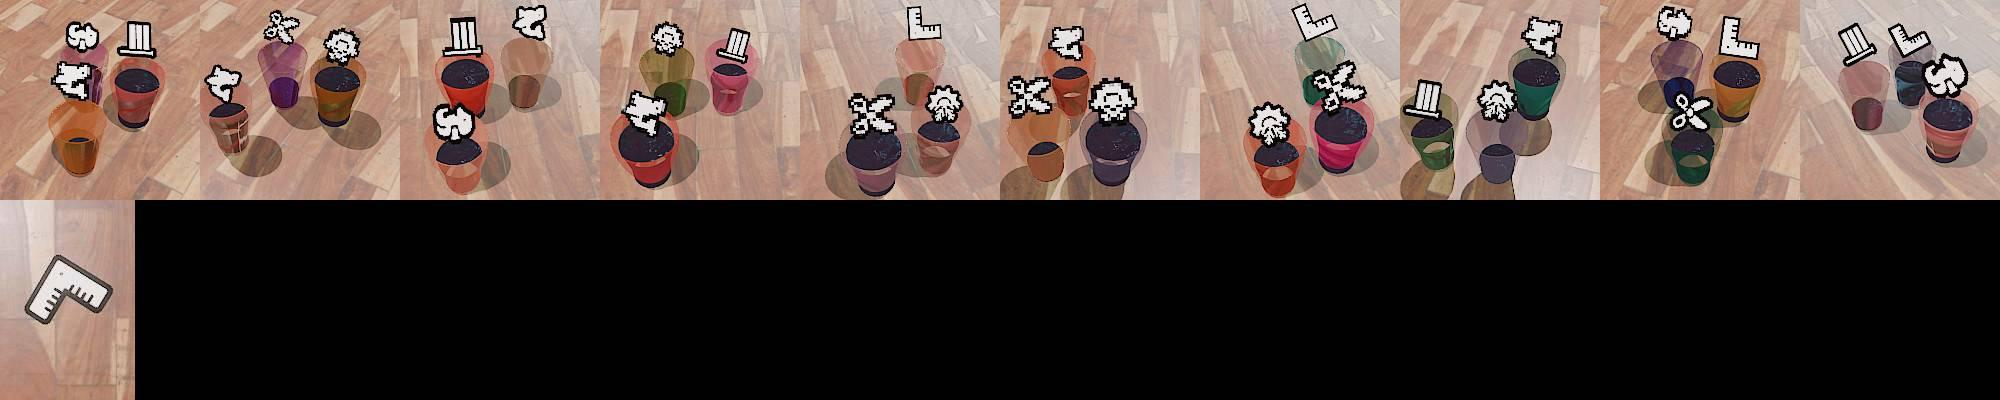icon: (23, 253, 114, 324), (1307, 59, 1367, 113), (620, 88, 669, 137), (1087, 76, 1137, 124), (847, 89, 897, 136), (1007, 74, 1054, 119), (1520, 14, 1564, 61), (1922, 54, 1969, 98), (1247, 100, 1292, 145), (1717, 15, 1760, 62), (1291, 2, 1338, 44), (432, 99, 476, 142), (1475, 78, 1517, 123), (50, 61, 96, 102), (443, 16, 485, 60), (923, 82, 964, 126), (1838, 22, 1877, 66), (1669, 92, 1713, 131), (1888, 22, 1932, 60), (203, 64, 242, 103), (321, 27, 361, 65), (117, 21, 157, 59), (905, 4, 943, 43), (1048, 23, 1085, 62), (1409, 77, 1444, 117), (511, 4, 548, 41), (1656, 5, 1693, 41), (264, 10, 300, 45), (716, 27, 751, 63), (65, 20, 100, 54), (650, 21, 685, 55)
